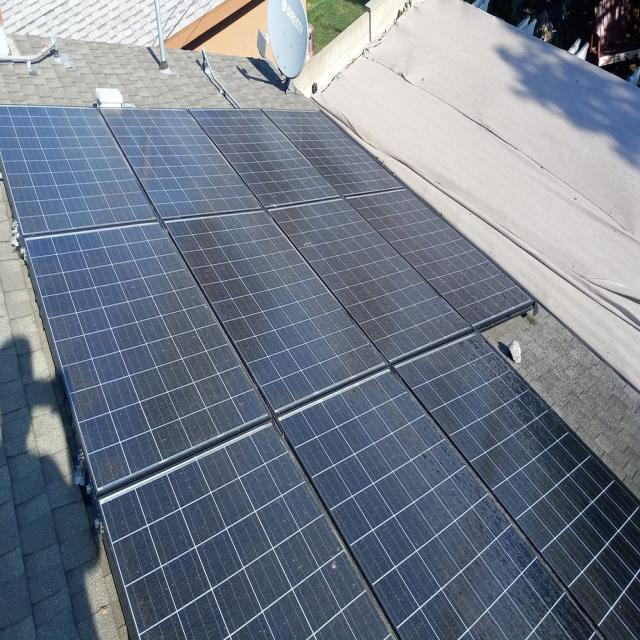dust-solar-panel: (0, 107, 640, 640)
